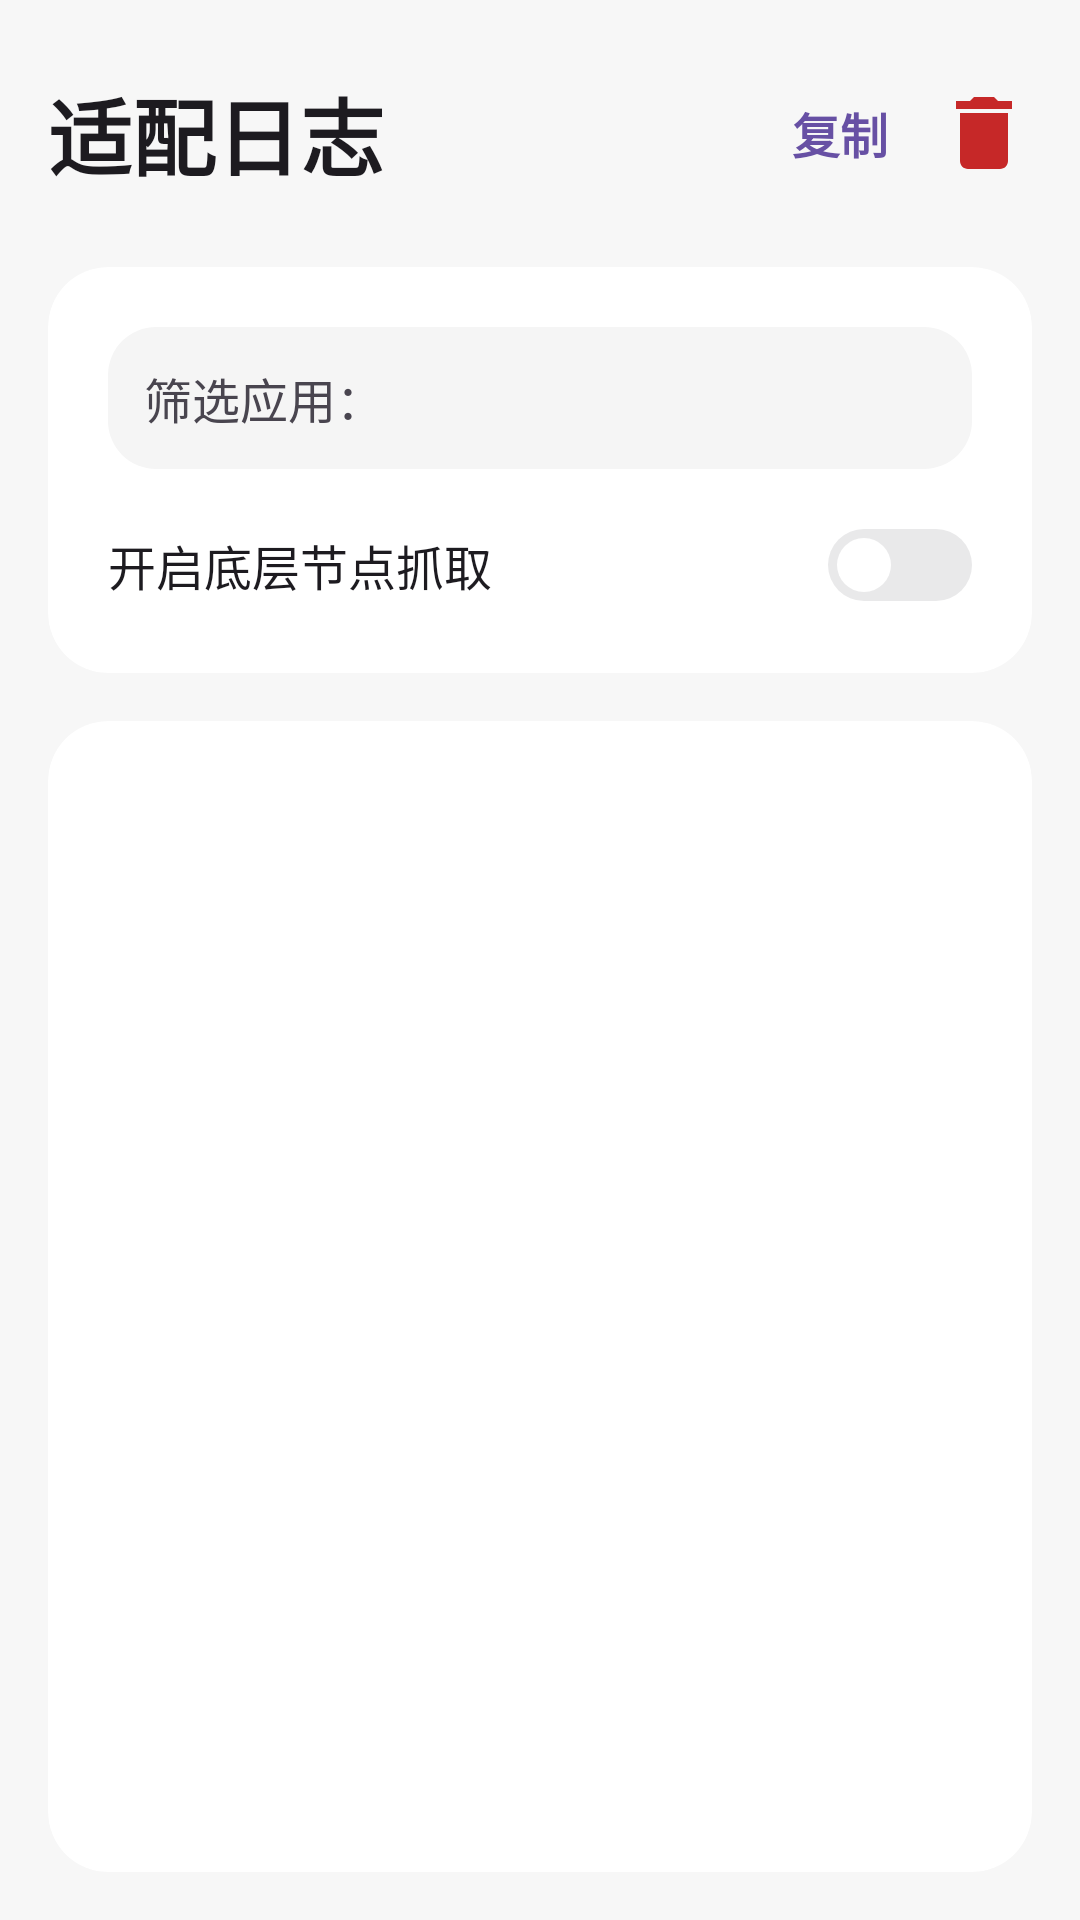

Icons on this 1080×1920 Android screen, each with the point to tap as (x=x, y=y):
delete: (x=984, y=133)
